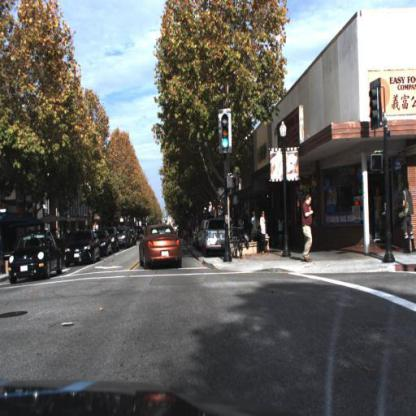car: (9, 232, 62, 285), (138, 221, 185, 271), (62, 228, 102, 270), (66, 228, 102, 266), (205, 219, 228, 258), (101, 228, 111, 259), (119, 226, 131, 251)
pedestrian: (397, 175, 416, 257), (302, 194, 313, 263), (251, 218, 267, 257), (278, 217, 284, 246), (261, 212, 267, 233)
trafficLight: (221, 110, 234, 154)
